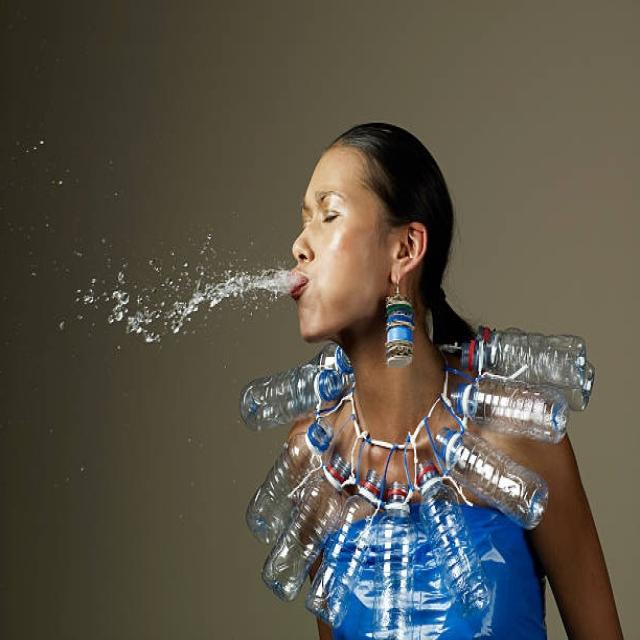Spitting: (199, 122, 458, 429)
